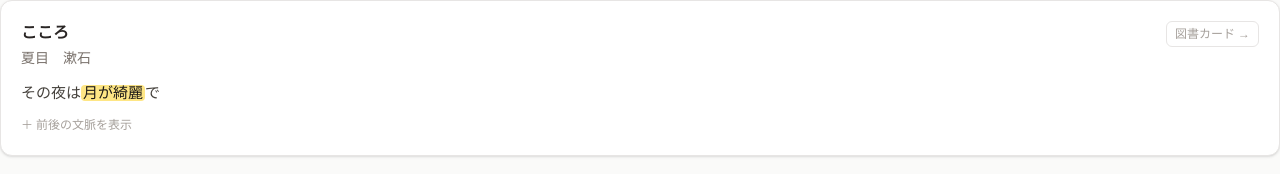
ResultCard › UI-24: カードのクリックで context に展開する
Click the element showing "こころ 夏目 漱石 図書カード → その夜は月が綺麗で ＋ 前後の文脈を表示": (640, 78) [0,0,1279,156]
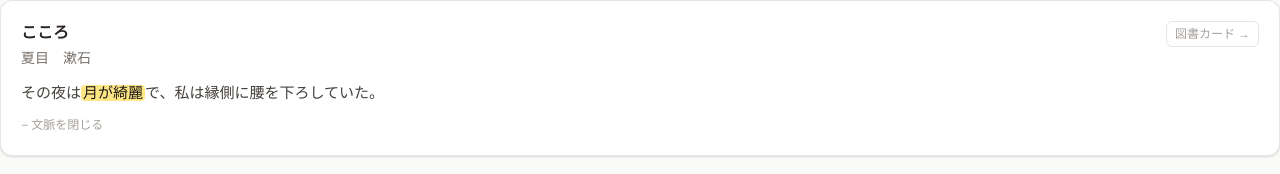
Now the text "その夜は月が綺麗で、私は縁側に腰を下ろしていた。" is shown, box [21,85,384,101]
